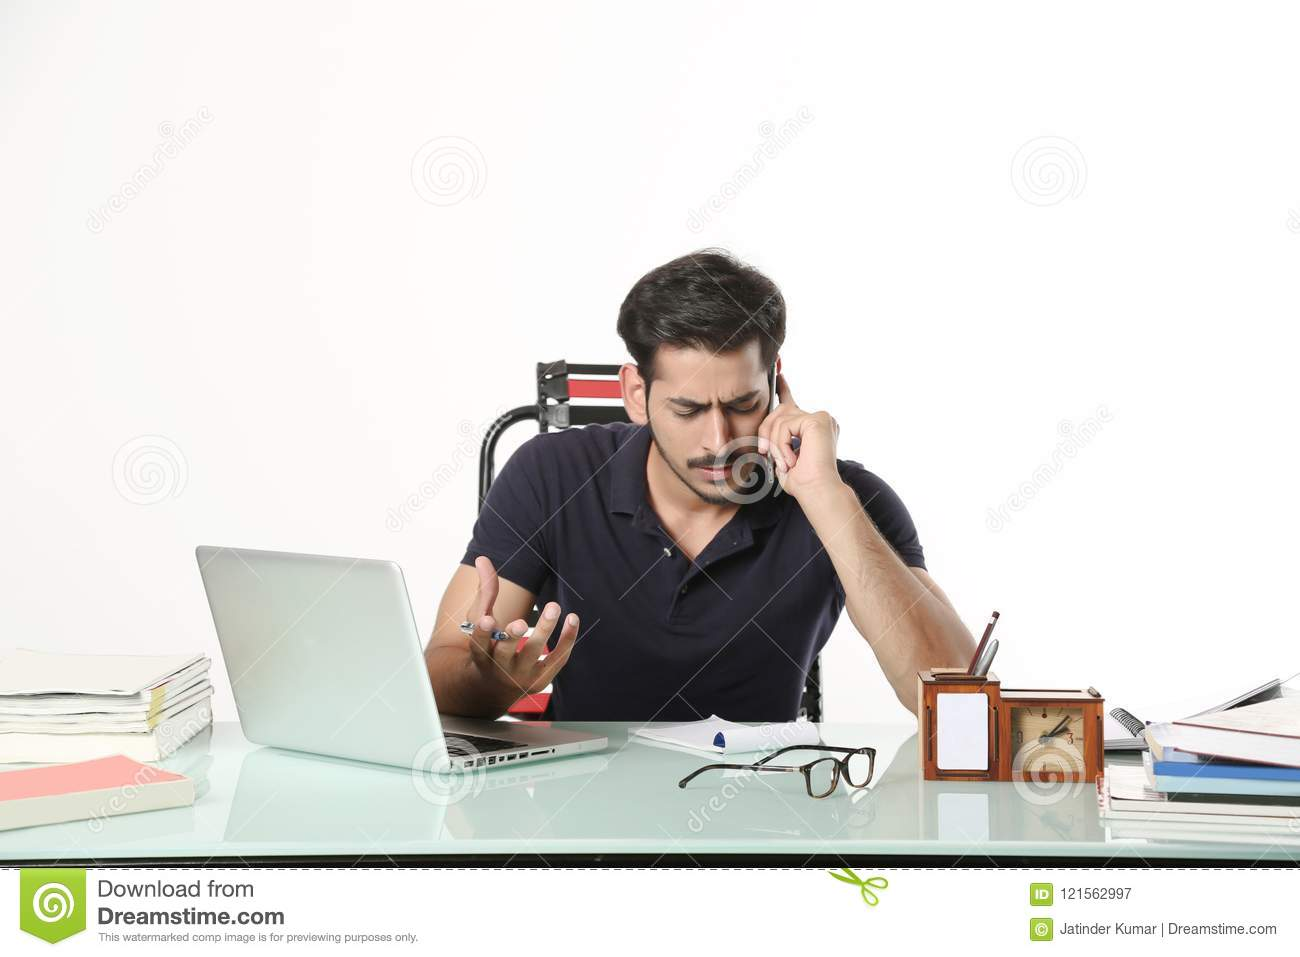phone: (762, 360, 793, 502)
talk: (665, 359, 850, 523)
